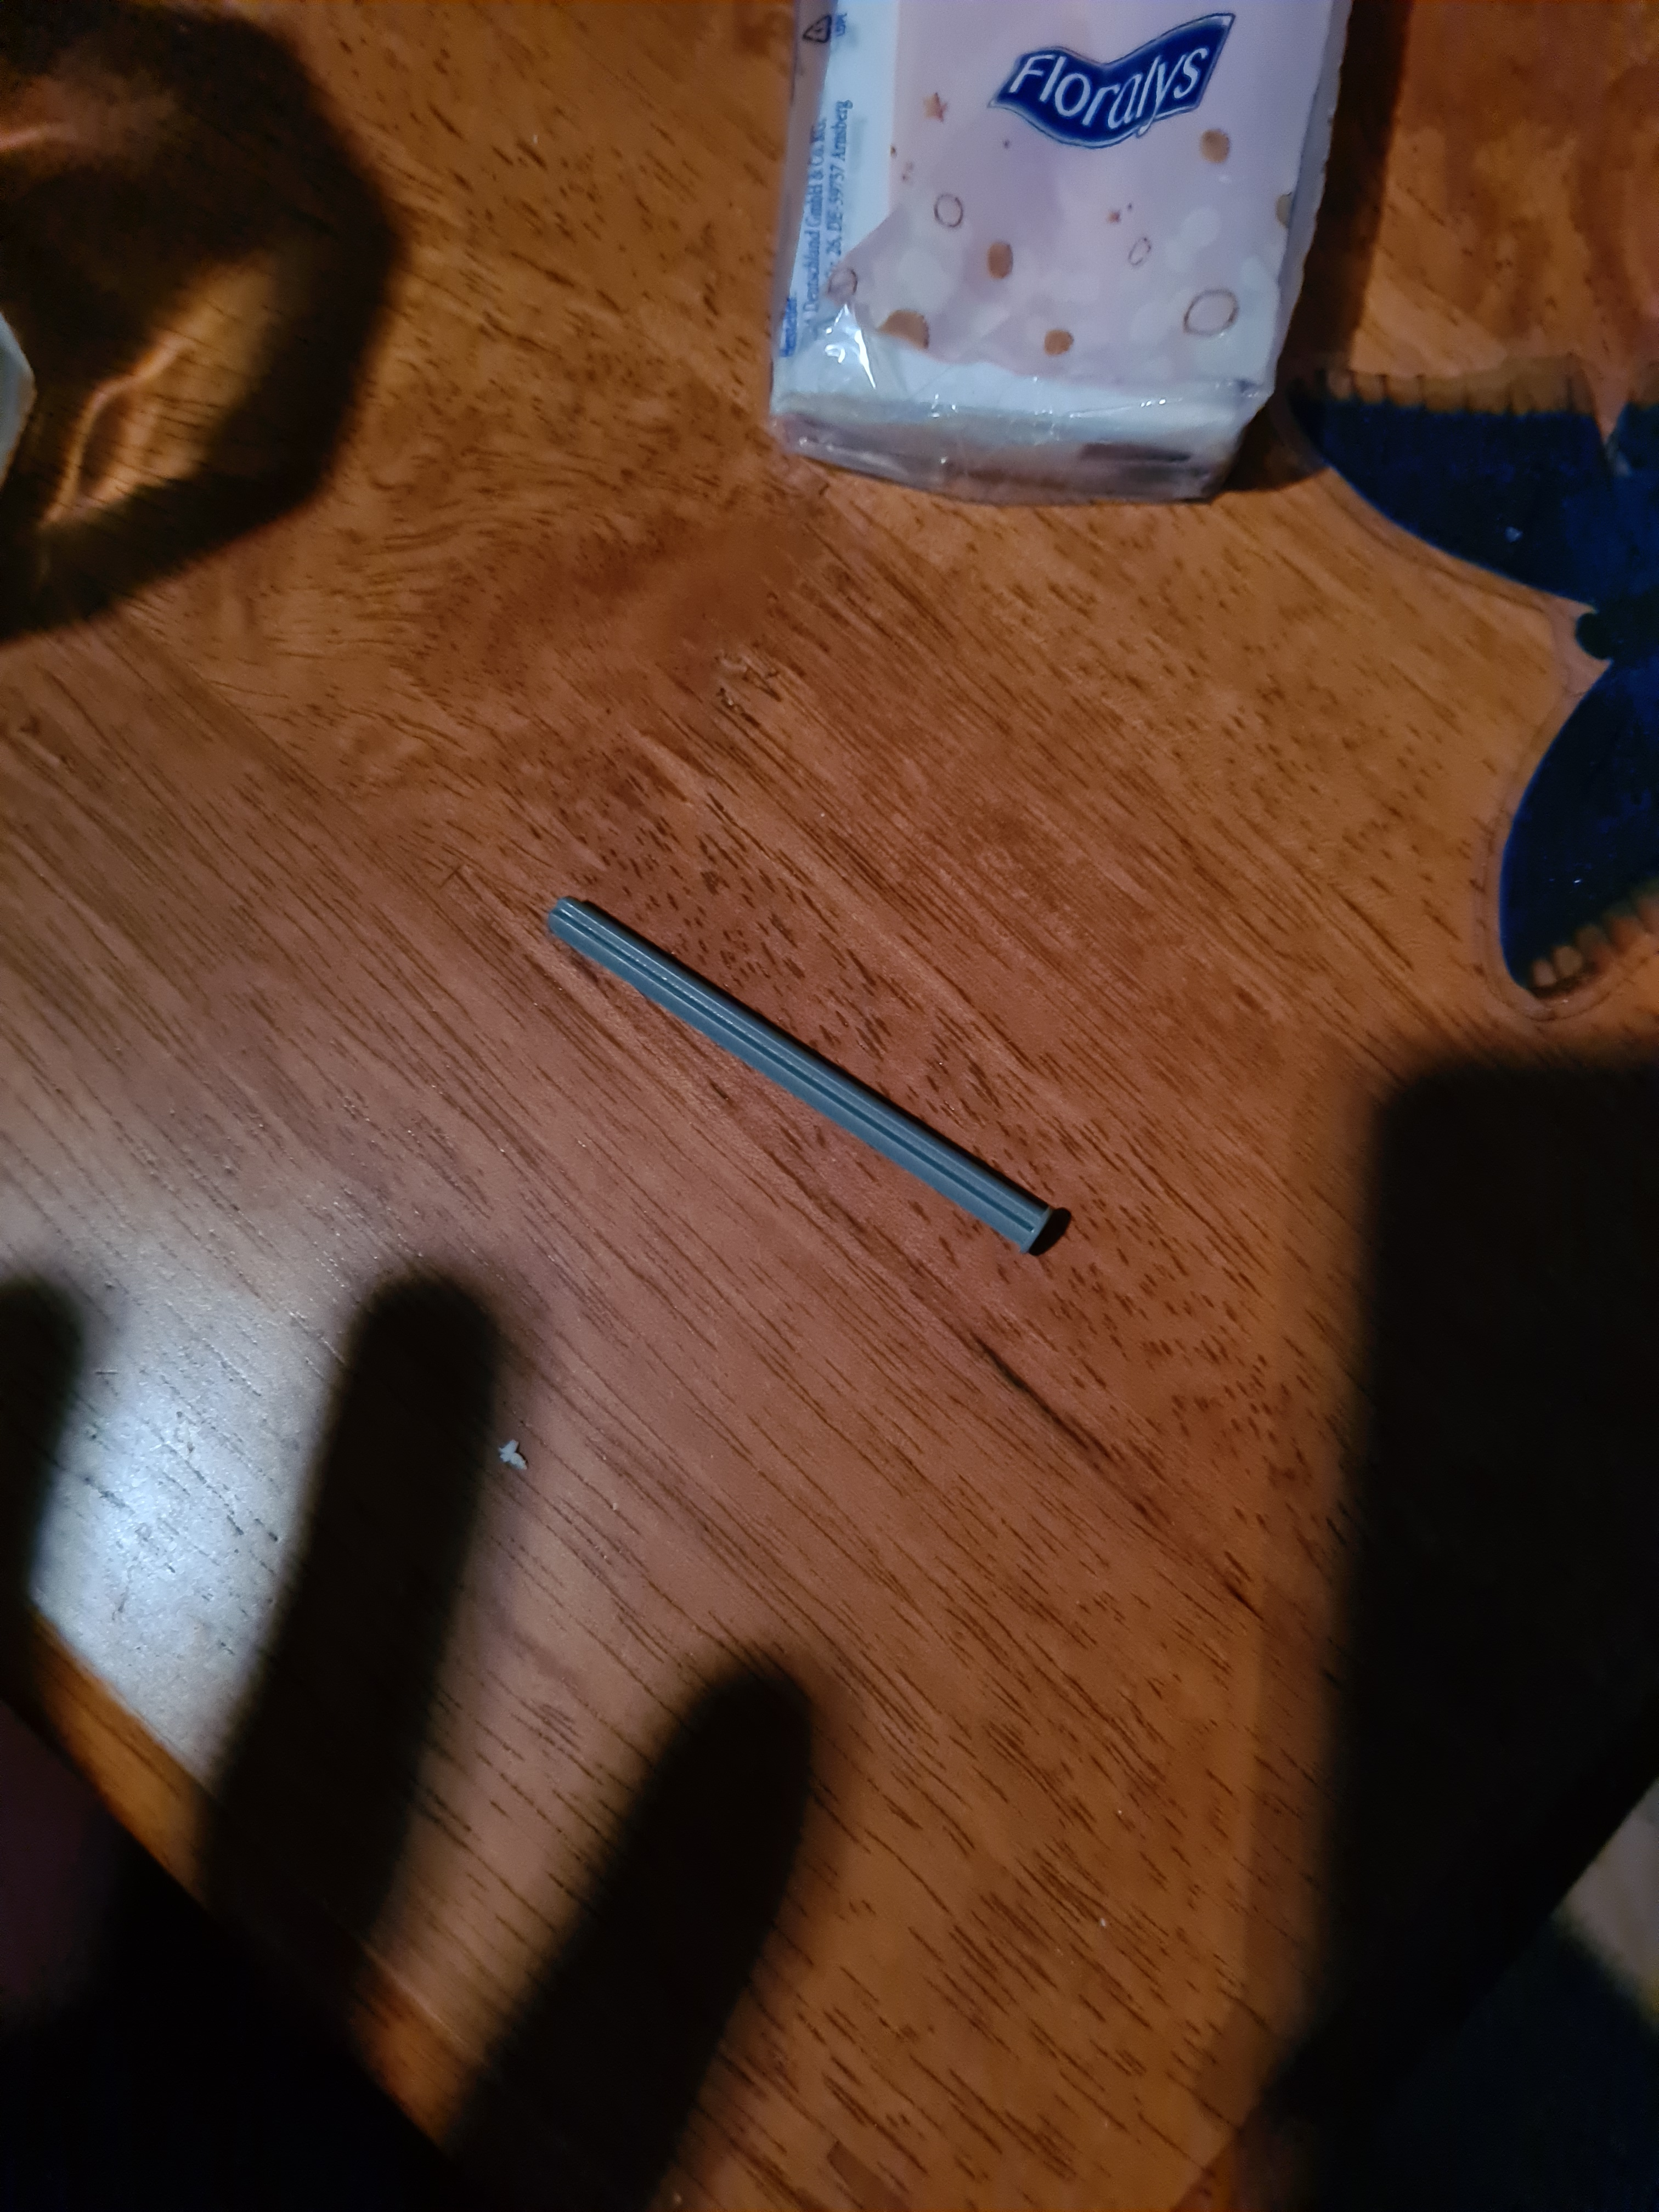Grau_lang: (490, 834, 1105, 1291)
